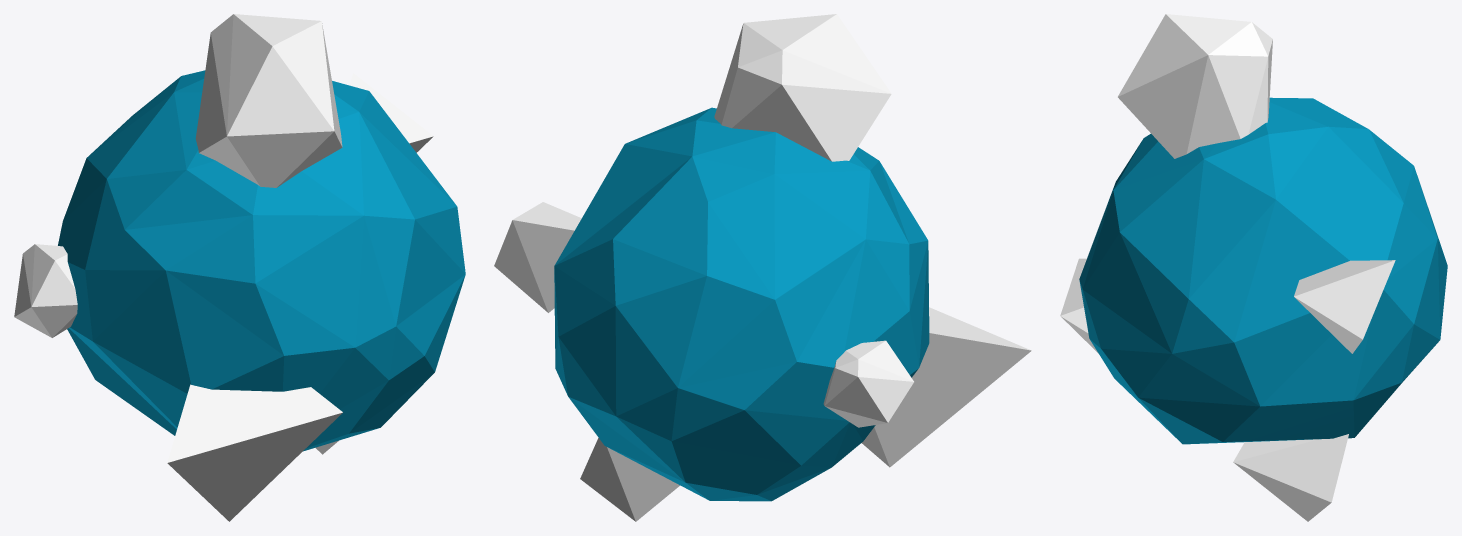
File: Planet_08_a.fbx
3 renders of one model, left to right at view 1: azimuth 30°, elevation 25°; view 2: azimuth 150°, elevation 25°; view 3: azimuth 270°, elevation 25°, orthographic. The views are drawn at different scales.
Parts seen in each view (by area): view 1: Planet_013; view 2: Planet_013; view 3: Planet_013.
Boxes of the visible parts, bbox=[...] form: Planet_013: bbox=[14, 14, 465, 521]; Planet_013: bbox=[494, 14, 1031, 521]; Planet_013: bbox=[1060, 14, 1447, 521].
Bounding box in the file's own units: 83.55 × 98.05 × 76.36.
